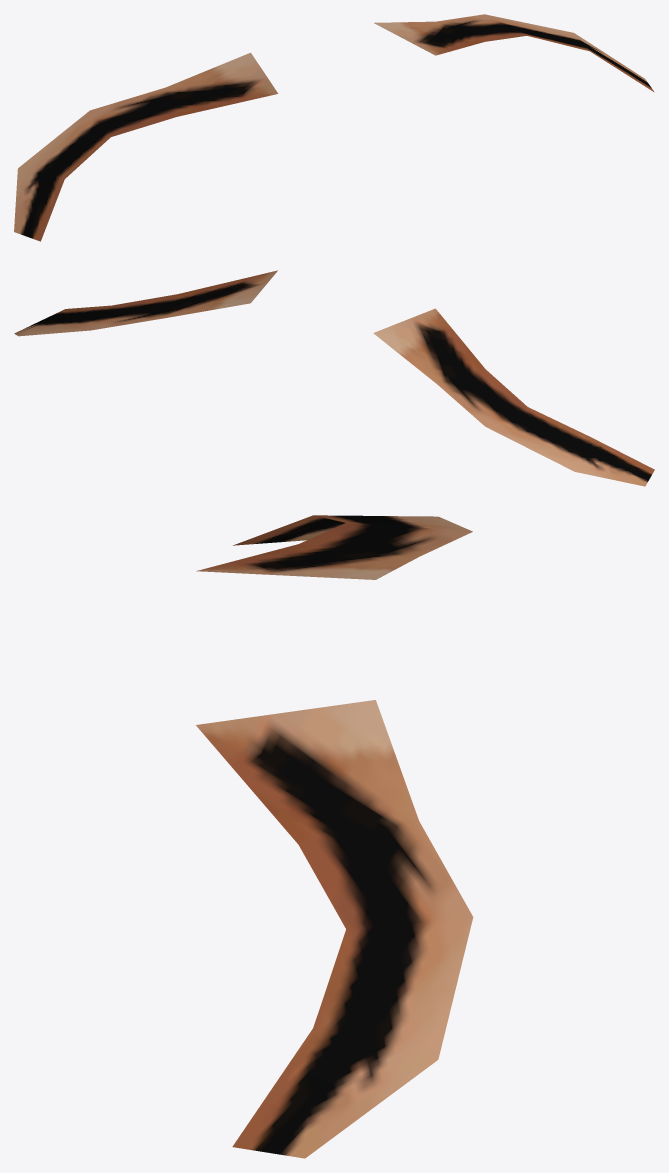
The model's file is ladyEyebrows.fbx.
The picture shows the model from 3 angles, top to bottom: view 1: azimuth 30°, elevation 25°; view 2: azimuth 150°, elevation 25°; view 3: azimuth 270°, elevation 25°; orthographic projection. The views are drawn at different scales.
Visible parts, largest first — view 1: lady_eyebrows; view 2: lady_eyebrows; view 3: lady_eyebrows.
Part boxes in pixels (x1,y1,x2,y2): lady_eyebrows: [14, 14, 654, 241]; lady_eyebrows: [14, 270, 654, 486]; lady_eyebrows: [196, 515, 473, 1158].
Size of the model in its own units: 11472 by 1830 by 2185.
1 material, 1 textured.
